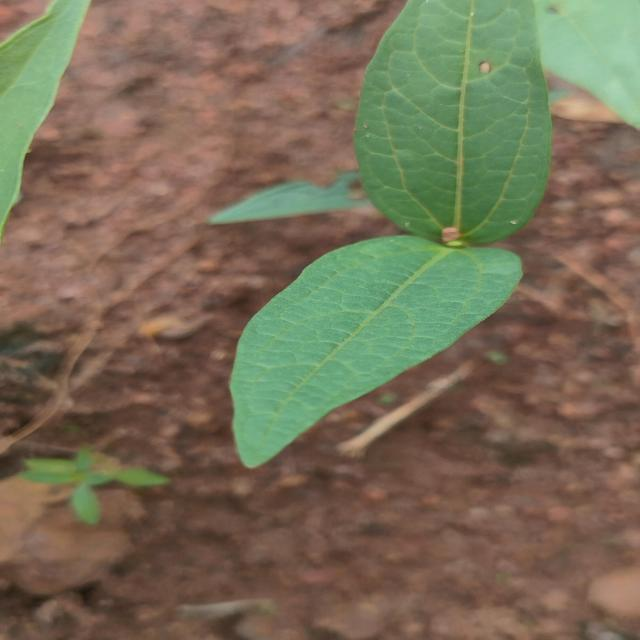Black gram_healthy: (233, 235, 522, 464), (355, 0, 550, 243)
